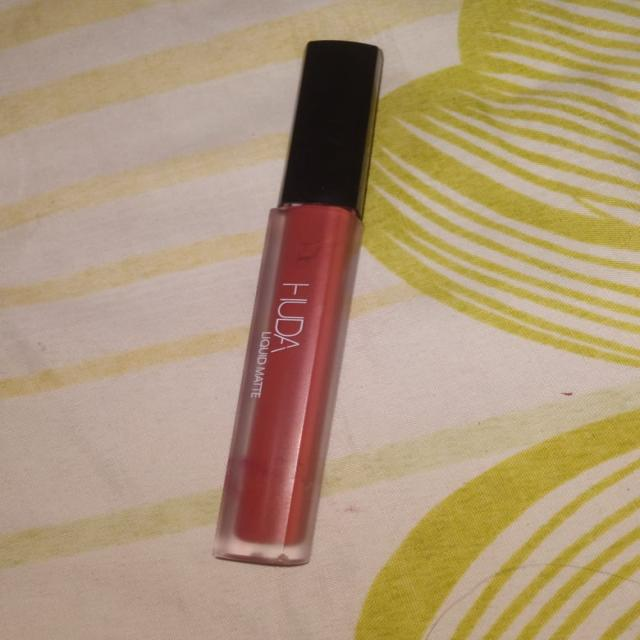lip gloss: (184, 26, 411, 592)
